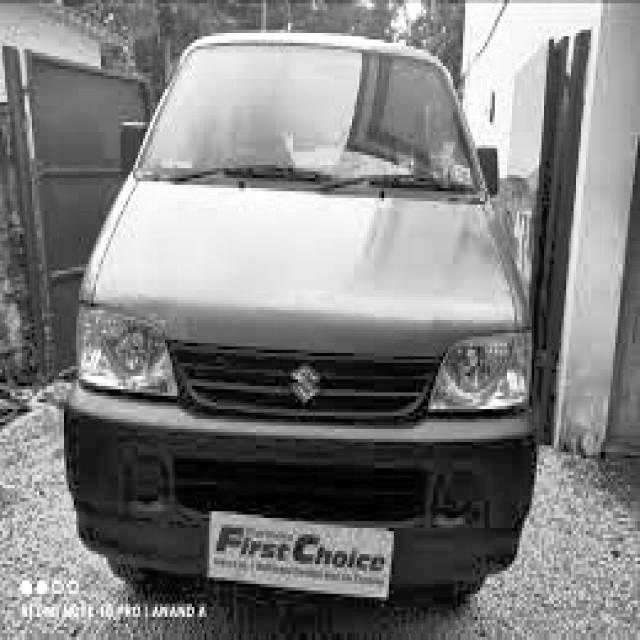Car: (59, 33, 553, 594)
